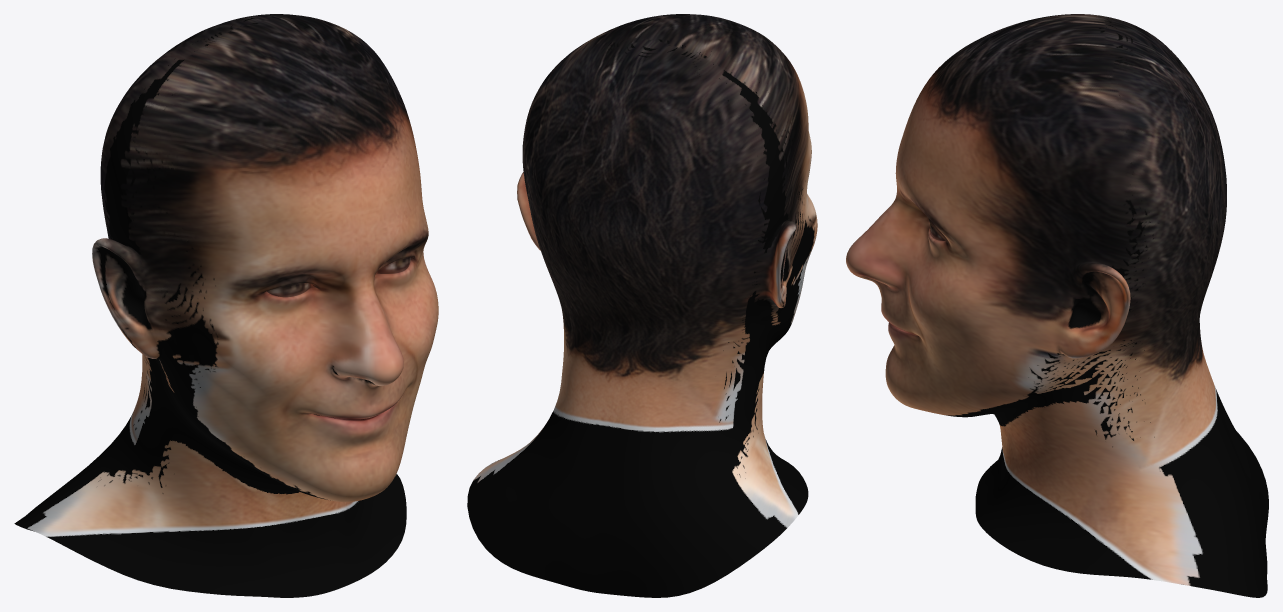
Rendered from master_.glb.
The picture shows the model from 3 angles, left to right: view 1: azimuth 30°, elevation 25°; view 2: azimuth 150°, elevation 25°; view 3: azimuth 270°, elevation 25°; orthographic projection. The views are drawn at different scales.
Visible parts, largest first — view 1: FBHead.007; view 2: FBHead.007; view 3: FBHead.007.
Boxes of the visible parts, bbox=[...] form: FBHead.007: bbox=[14, 14, 438, 597]; FBHead.007: bbox=[467, 14, 817, 597]; FBHead.007: bbox=[846, 14, 1268, 597].
Size of the model in its own units: 1.66 by 2.53 by 1.83.
1 material, 1 textured.
